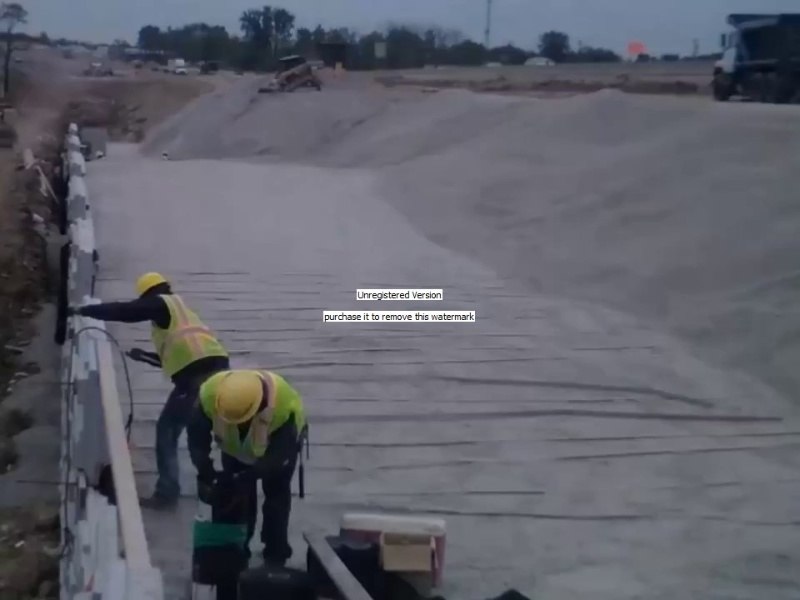bulldozer: (258, 54, 321, 95)
dumptruck: (709, 12, 800, 101)
hardhat: (213, 370, 265, 427), (133, 272, 168, 298)
person: (68, 272, 229, 513), (185, 368, 312, 576)
truck: (166, 58, 188, 74)
wall: (57, 122, 164, 600)
